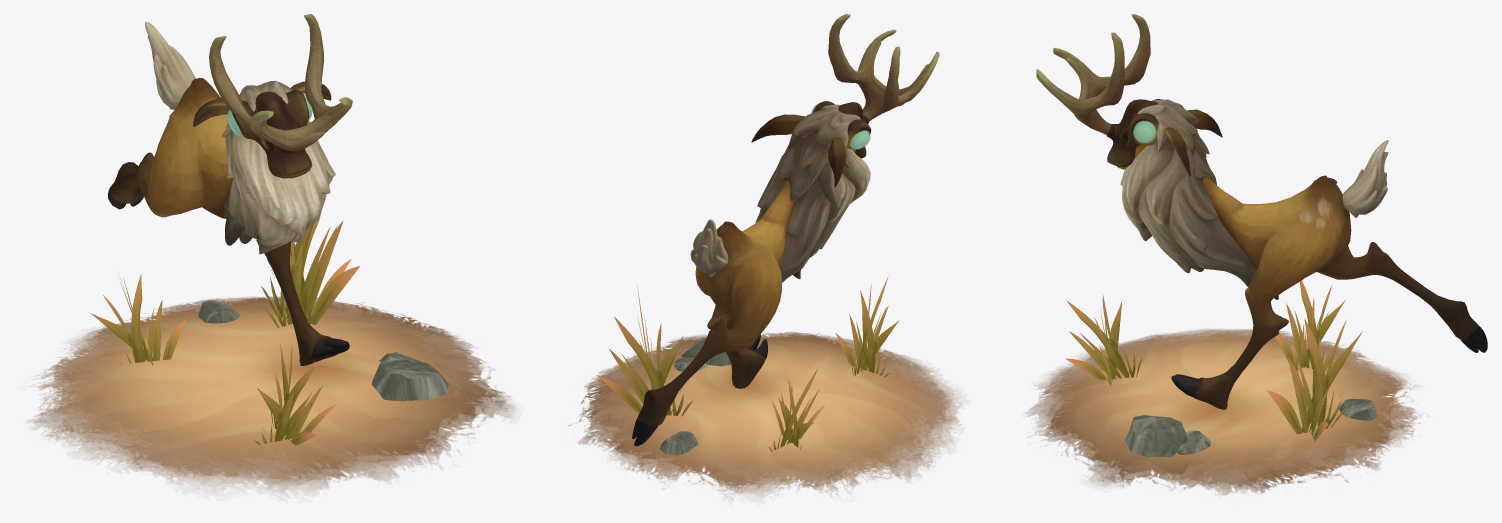
The model's file is simple_creature_duckdeer.glb.
The picture shows the model from 3 angles, left to right: view 1: azimuth 30°, elevation 25°; view 2: azimuth 150°, elevation 25°; view 3: azimuth 270°, elevation 25°; orthographic projection. The views are drawn at different scales.
Parts seen in each view (by area): view 1: pasted__pSphere18, Body_low, Beard_low, Head_low, pasted__pPlane14, pasted__pCube171, pasted__pasted__pPlane18, Tail_low, pasted__pPlane18, pasted__pPlane13, pasted__pPlane19, Ears_low (+1 smaller); view 2: pasted__pSphere18, Body_low, Beard_low, Head_low, pasted__pPlane13, Tail_low, Ears_low, pasted__pPlane18, pasted__pasted__pPlane19, pasted__pPlane19, pasted__pCube170, pasted__pasted__pPlane18; view 3: pasted__pSphere18, Body_low, Beard_low, Head_low, pasted__pPlane14, pasted__pPlane19, pasted__pCube171, Tail_low, pasted__pasted__pPlane19, Ears_low, pasted__pPlane13, pasted__pCube170 (+1 smaller).
Boxes of the visible parts, x1,y1,x2,y2 form: pasted__pSphere18: (28, 296, 514, 494); Body_low: (108, 78, 349, 365); Beard_low: (222, 80, 335, 254); Head_low: (209, 14, 352, 178); pasted__pPlane14: (261, 220, 359, 324); pasted__pCube171: (371, 360, 448, 401); pasted__pasted__pPlane18: (90, 274, 186, 364); Tail_low: (145, 21, 195, 109); pasted__pPlane18: (254, 360, 335, 444); pasted__pPlane13: (266, 212, 351, 327); pasted__pPlane19: (270, 344, 316, 445); Ears_low: (193, 81, 331, 126); pasted__pSphere18: (568, 332, 961, 497); Body_low: (632, 180, 795, 446); Beard_low: (755, 104, 870, 282); Head_low: (812, 14, 939, 158); pasted__pPlane13: (597, 316, 692, 416); Tail_low: (690, 219, 728, 277); Ears_low: (751, 114, 846, 187); pasted__pPlane18: (835, 290, 899, 377); pasted__pasted__pPlane19: (768, 367, 824, 451); pasted__pPlane19: (851, 276, 888, 376); pasted__pCube170: (659, 431, 698, 455); pasted__pasted__pPlane18: (771, 379, 813, 452); pasted__pSphere18: (1026, 329, 1428, 494); Body_low: (1171, 175, 1487, 409); Beard_low: (1120, 99, 1278, 299); Head_low: (1036, 14, 1162, 169); pasted__pPlane14: (1268, 319, 1362, 434); pasted__pPlane19: (1065, 295, 1142, 379); pasted__pCube171: (1125, 415, 1185, 473); Tail_low: (1342, 140, 1388, 217); pasted__pasted__pPlane19: (1275, 280, 1345, 369); Ears_low: (1164, 109, 1222, 175); pasted__pPlane13: (1307, 331, 1331, 441); pasted__pCube170: (1339, 398, 1377, 420).
Bounding box in the file's own units: 8.18 × 8.22 × 9.07.
Materials: 6 (5 with a texture image).
